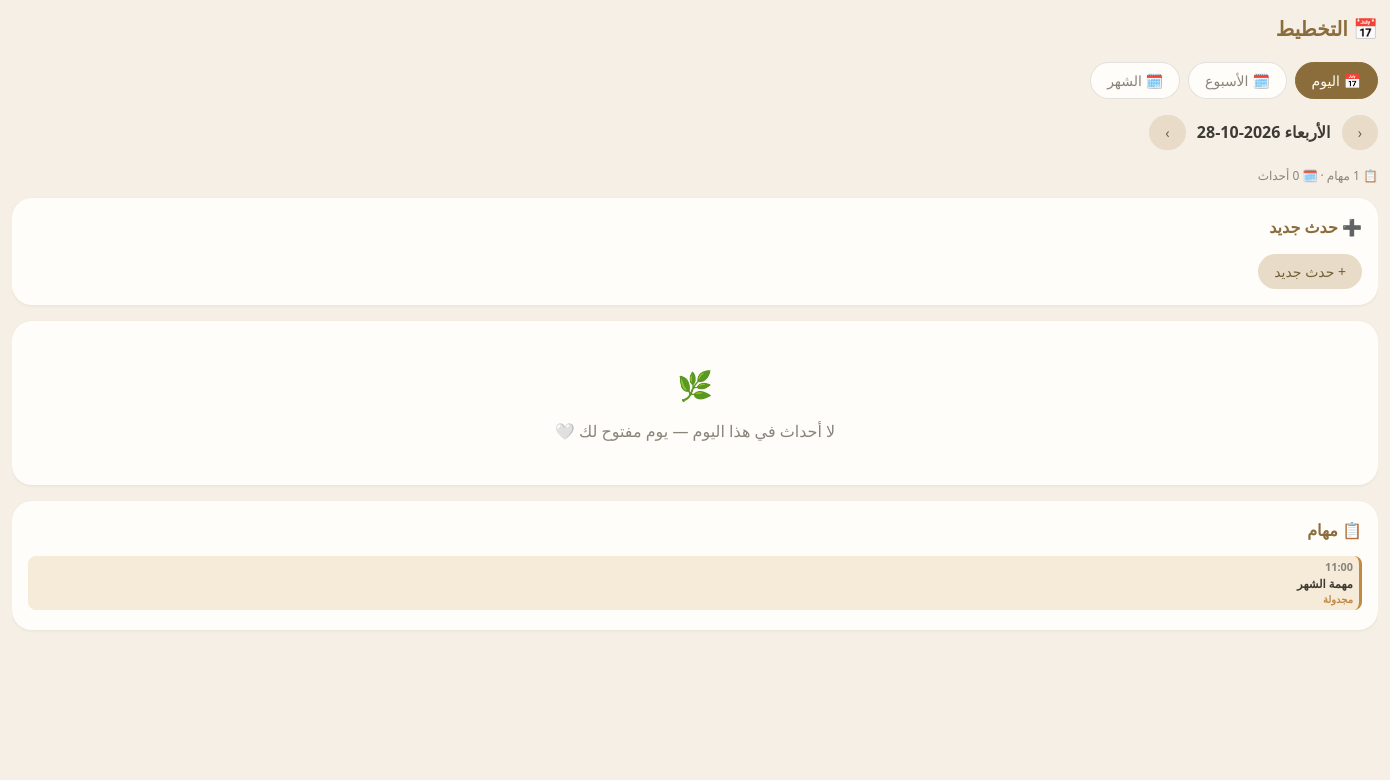
Test: Planning Calendar UI › عرض الشهر: شبكة 42 يومًا مع عدّاد المهام المجدولة، والضغط على يوم يفتحه
The image size is (1390, 780).
Click the tab "🗓️ الشهر" at (1135, 80), box [1090,62,1180,99]
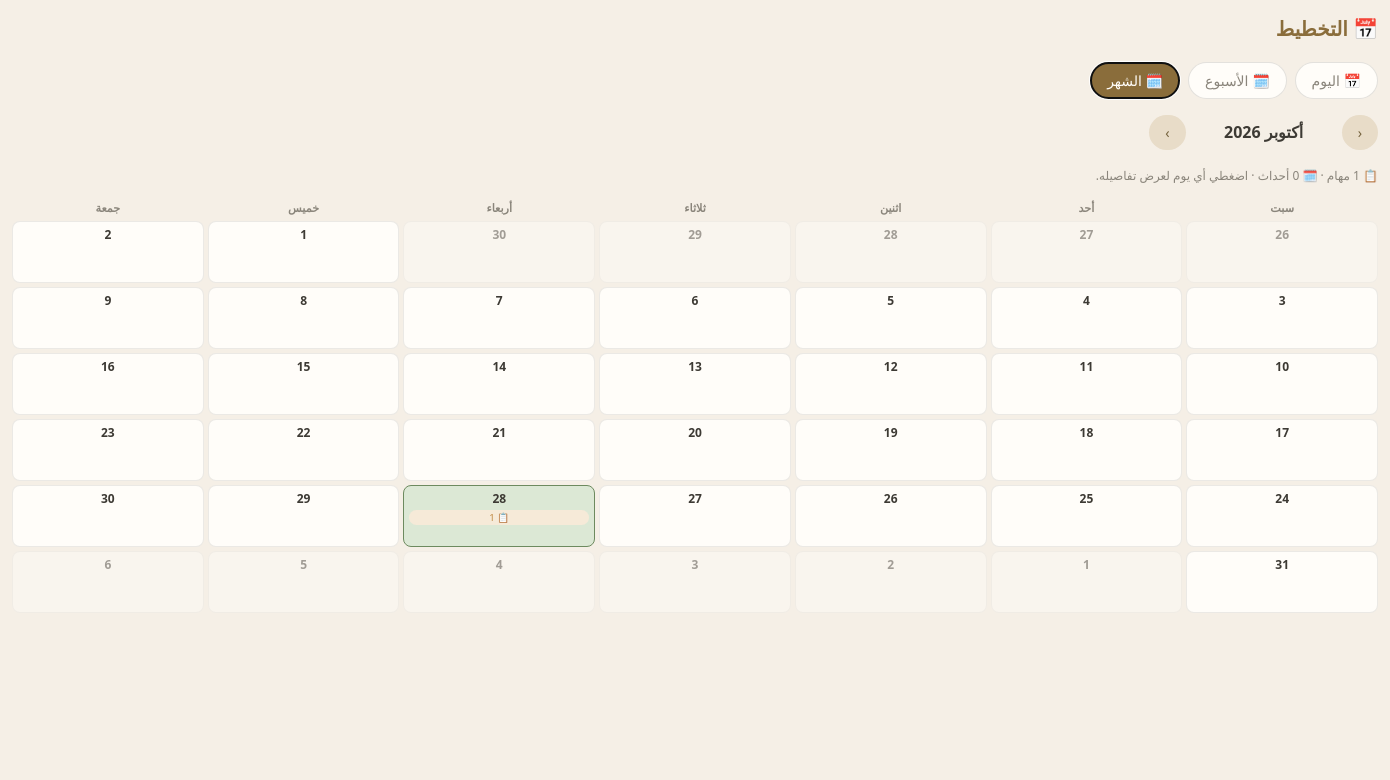
Result: the element with class "month-grid" is shown at [12,221,1378,613]
Result: the number of buttons with class "month-cell" is 42
Result: the text with class "mb-task" shows "📋" at [495,511,509,524]
Note: الضغط على اليوم الحالي يفتح عرض اليوم بتفاصيله
Click the button with class "month-cell" showing "28 📋 1" at (499, 516), box [403,485,595,547]
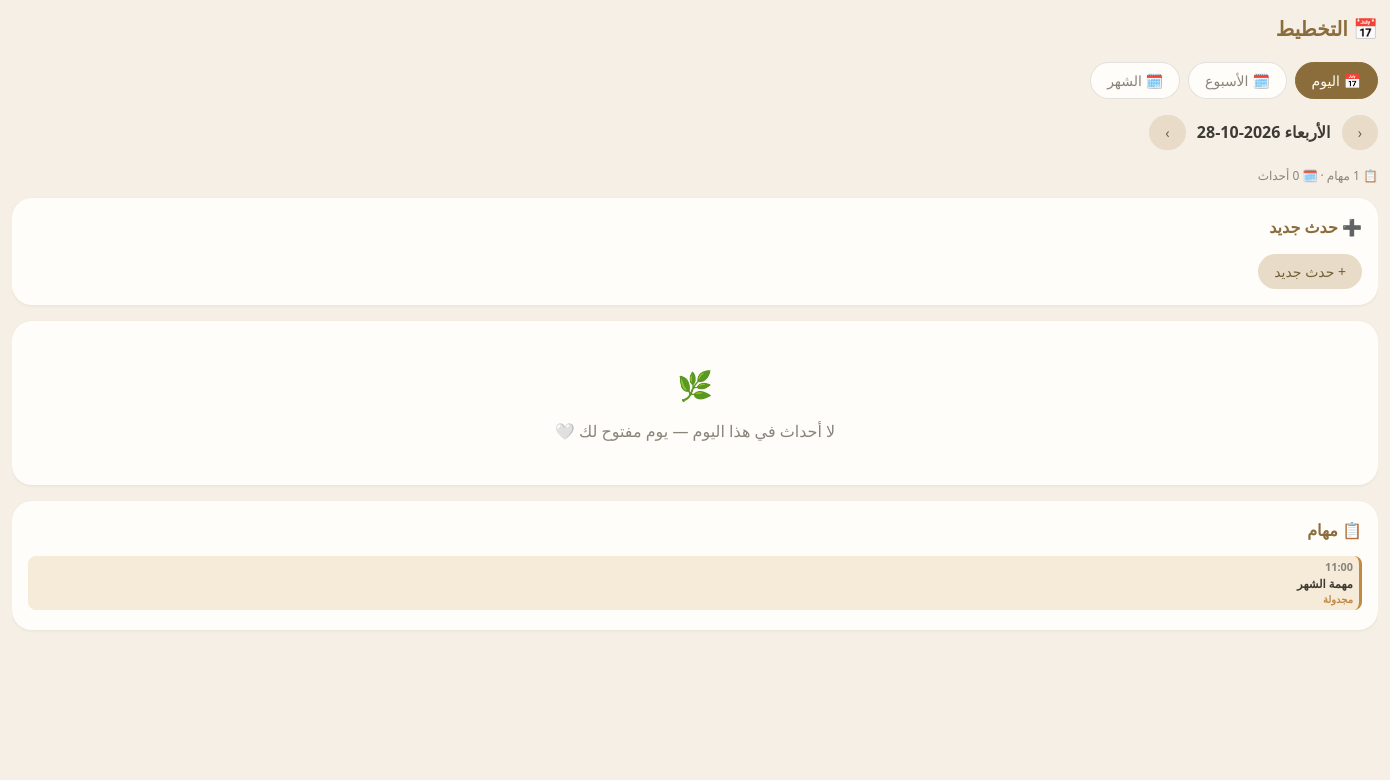
Result: the text "مهمة الشهر" is shown at [1297,576,1353,591]
